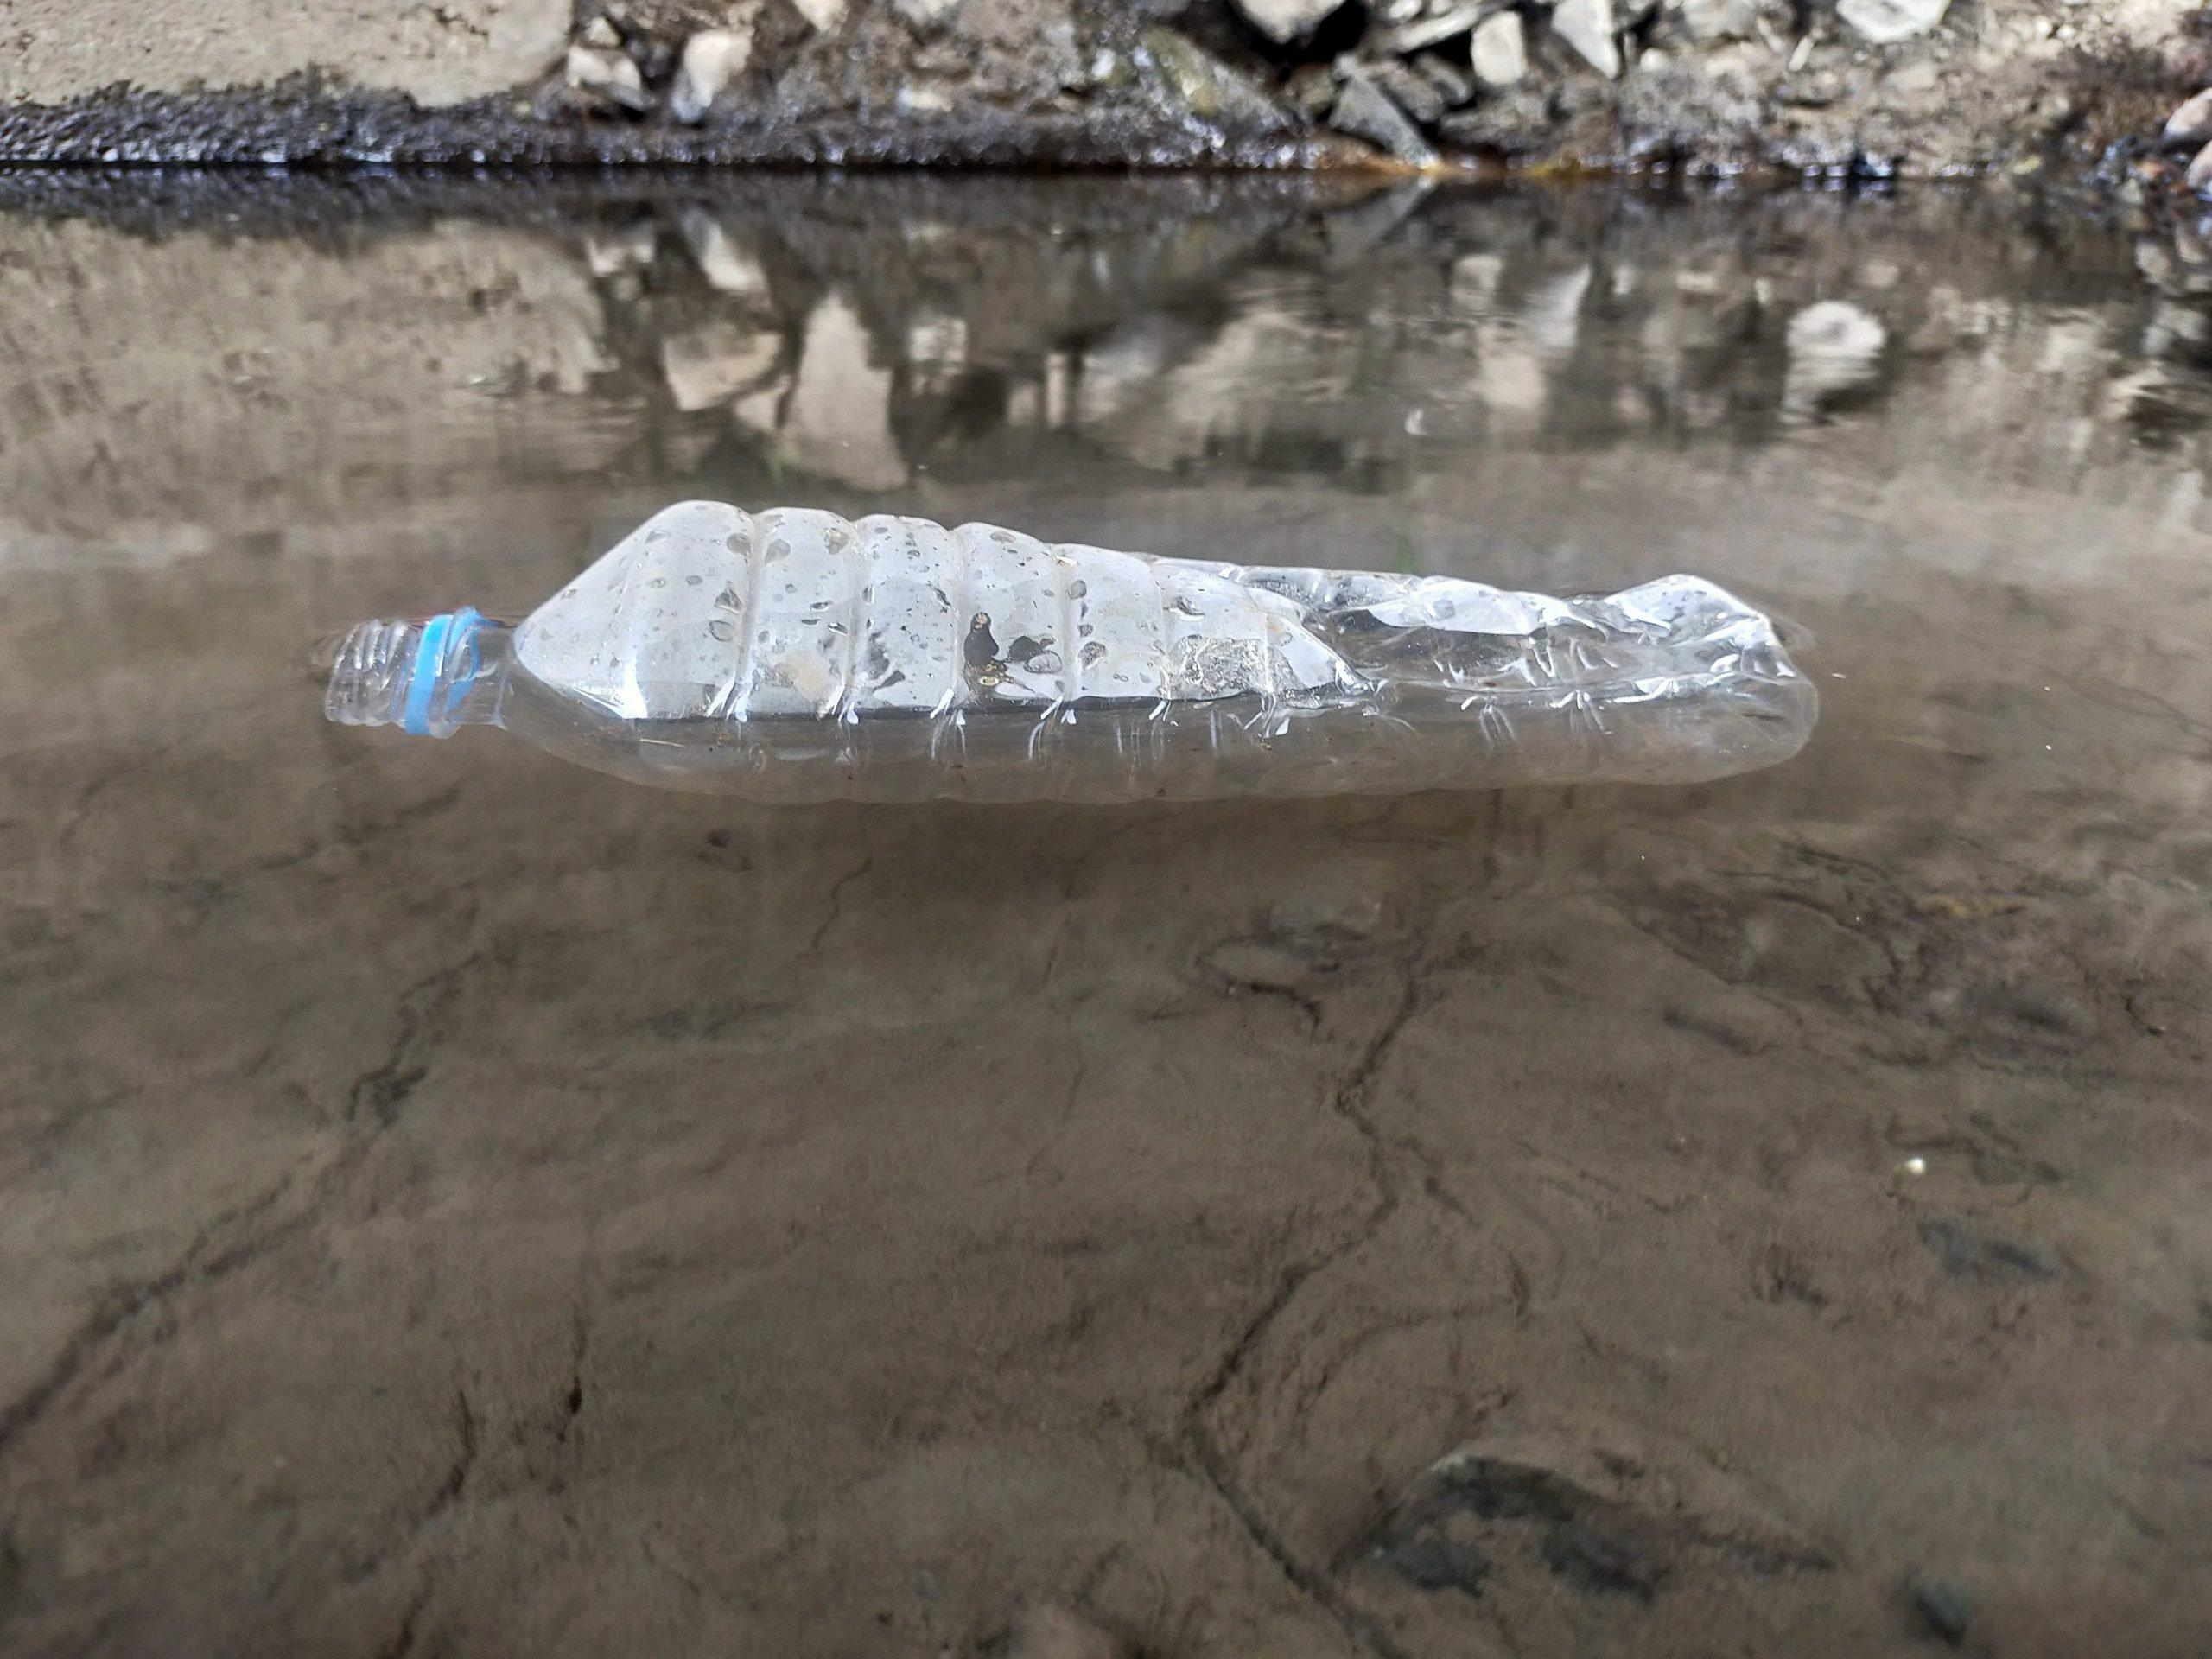bottle: (338, 411, 1862, 990)
